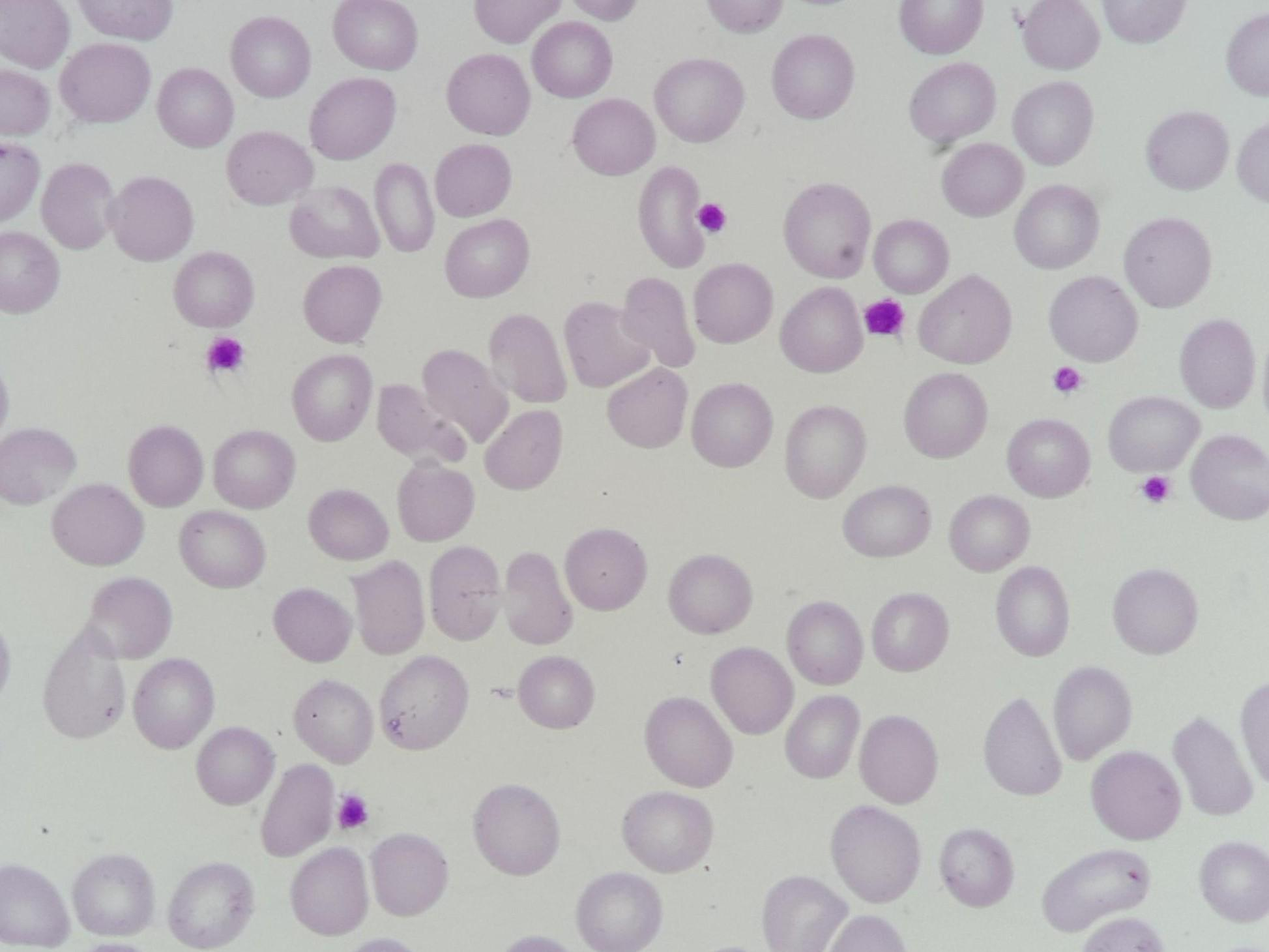Uninfected: (1041, 851, 1150, 932), (831, 804, 921, 902), (44, 633, 126, 738), (379, 657, 469, 751), (917, 277, 1010, 366), (783, 185, 871, 277), (421, 350, 508, 443), (1089, 750, 1180, 838), (51, 484, 145, 568), (645, 697, 733, 786), (472, 785, 560, 874), (1172, 716, 1254, 811), (1124, 219, 1211, 307), (984, 697, 1063, 792), (132, 658, 215, 748), (60, 43, 152, 124), (107, 177, 194, 262), (622, 790, 711, 873), (376, 382, 465, 465), (1053, 666, 1130, 761), (169, 863, 255, 948), (1050, 276, 1137, 360), (291, 679, 374, 767), (910, 63, 996, 147), (566, 300, 650, 386), (654, 60, 742, 142), (857, 715, 938, 804), (487, 314, 566, 405), (1113, 571, 1197, 656), (88, 577, 172, 662), (309, 80, 397, 161), (348, 561, 425, 653), (905, 373, 989, 457), (259, 764, 337, 854), (430, 547, 505, 640), (290, 848, 370, 935), (1108, 397, 1198, 474), (289, 185, 380, 261), (780, 288, 863, 371), (179, 510, 266, 589), (565, 529, 647, 612), (710, 647, 792, 730), (72, 855, 155, 937), (447, 56, 532, 136), (785, 408, 864, 494), (1015, 187, 1098, 268), (368, 834, 449, 917), (1189, 435, 1269, 519), (445, 220, 531, 298), (1179, 319, 1256, 406), (638, 168, 707, 265), (622, 278, 696, 368), (772, 36, 853, 118), (668, 555, 751, 635), (1013, 83, 1094, 164), (1146, 112, 1229, 191), (691, 383, 770, 466), (156, 67, 234, 151), (504, 554, 576, 644), (293, 356, 372, 438), (484, 410, 563, 492), (606, 369, 687, 448), (577, 873, 659, 951), (195, 726, 274, 806), (1007, 420, 1089, 497), (996, 568, 1070, 653), (212, 431, 293, 508), (786, 602, 863, 683), (572, 98, 654, 174), (941, 144, 1023, 220), (785, 696, 861, 778), (763, 876, 847, 950), (42, 164, 115, 249), (841, 486, 927, 558), (693, 265, 771, 344), (872, 593, 950, 672), (398, 462, 475, 542), (235, 17, 311, 98), (273, 588, 354, 664), (303, 267, 381, 345), (435, 144, 514, 221), (228, 132, 311, 205), (174, 252, 253, 328), (532, 22, 613, 96), (308, 488, 390, 561), (0, 430, 76, 508), (950, 496, 1029, 571), (129, 427, 204, 505), (334, 1, 418, 70), (0, 865, 70, 947), (872, 220, 947, 294), (939, 830, 1012, 906), (1198, 842, 1269, 920), (518, 657, 593, 729), (1021, 2, 1099, 68), (375, 164, 435, 249), (0, 0, 70, 72), (1, 233, 60, 313), (900, 2, 983, 54), (80, 1, 171, 43), (1, 70, 49, 145), (1103, 1, 1186, 44), (477, 1, 558, 44), (1, 140, 43, 221), (1227, 15, 1269, 95)
